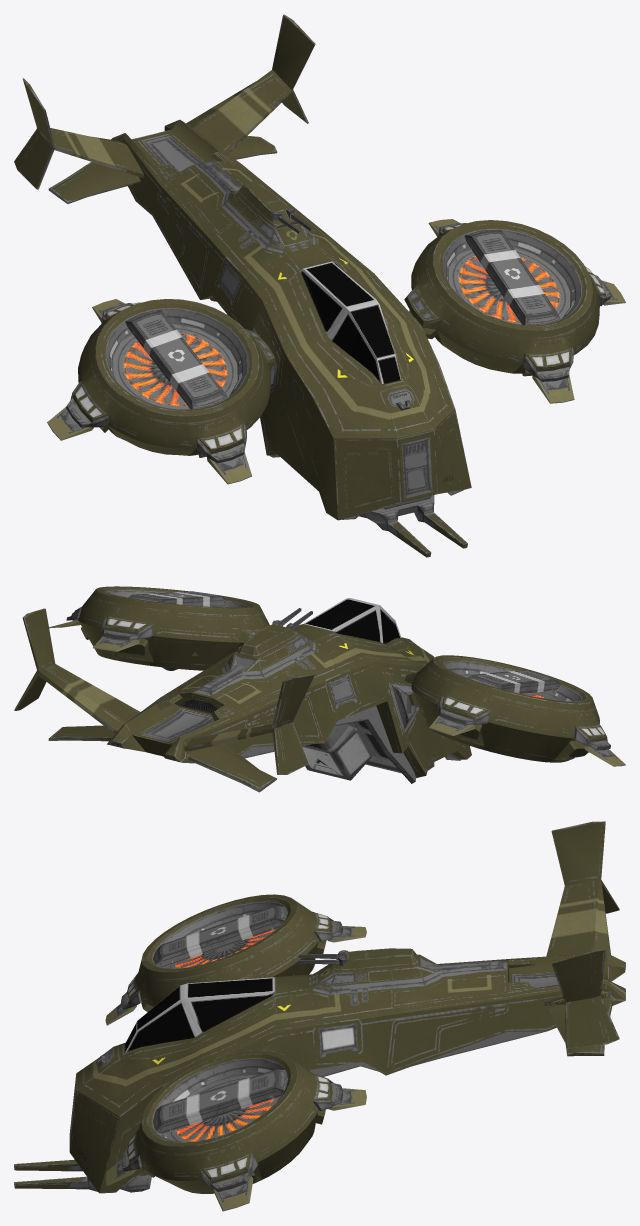
The model's file is space_ship.glb.
3 views of the same model, one above another, from view 1: azimuth 30°, elevation 25°; view 2: azimuth 150°, elevation 25°; view 3: azimuth 270°, elevation 25° (orthographic).
Visible parts, largest first — view 1: Object_2; view 2: Object_2; view 3: Object_2.
Part boxes in pixels (x1,y1,x2,y2): Object_2: (14,14,625,557); Object_2: (14,586,625,792); Object_2: (14,821,625,1211).
Size of the model in its own units: 174 by 85.61 by 161.
1 material, 1 textured.
